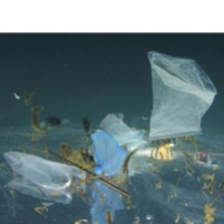plastic_bag: (143, 49, 219, 142), (3, 148, 89, 192), (86, 111, 150, 146), (86, 126, 128, 179), (6, 173, 75, 204)
